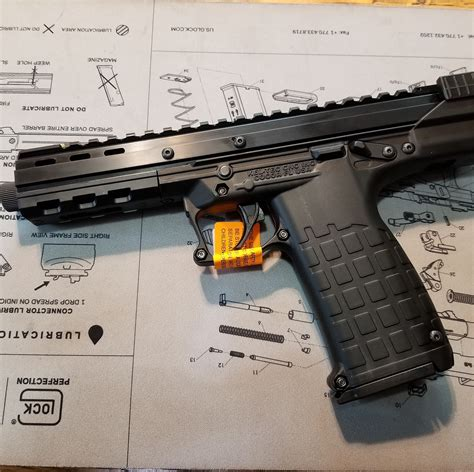gun: (2, 68, 474, 406)
